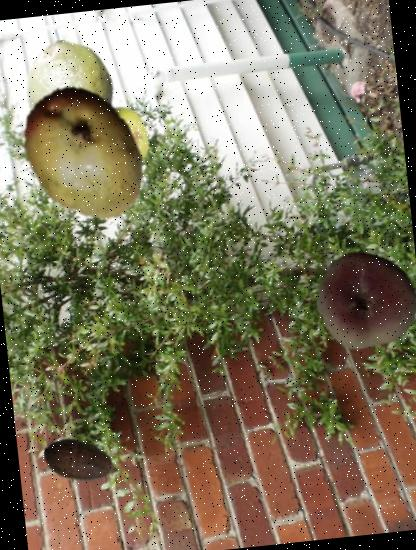Limes: (18, 35, 120, 137)
Nut: (39, 420, 124, 504)
Papaya: (4, 76, 163, 234)
Peach: (311, 242, 416, 354)
Pomelo: (82, 104, 155, 177)
